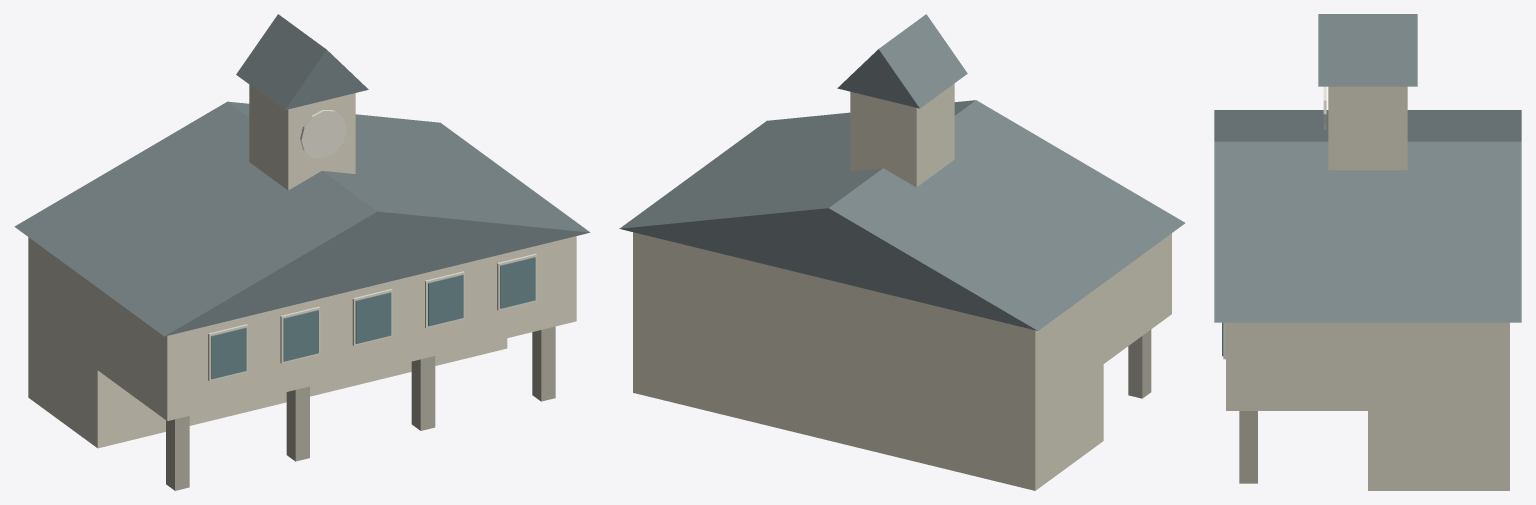
3 views of the same model, side by side, from view 1: azimuth 30°, elevation 25°; view 2: azimuth 150°, elevation 25°; view 3: azimuth 270°, elevation 25° (orthographic). The views are drawn at different scales.
Size of the model in its own units: 17.7 by 14.55 by 10.8.
